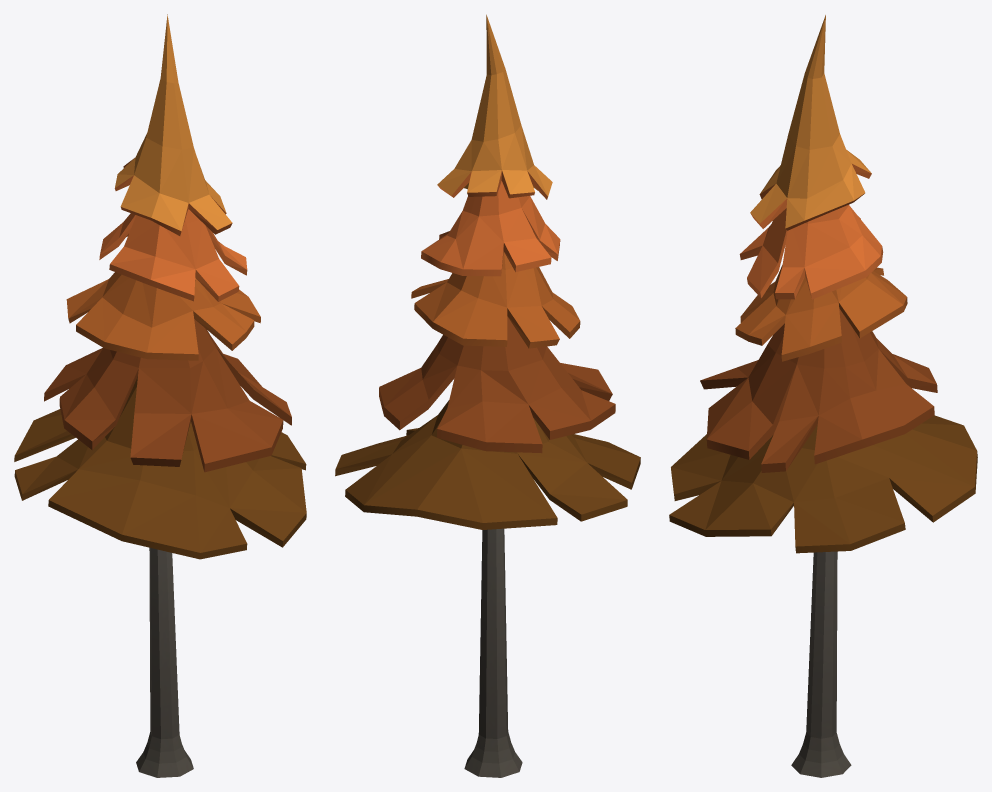
Rendered from ZLP_Plant_K_2.FBX.
3 views of the same model, side by side, from view 1: azimuth 30°, elevation 25°; view 2: azimuth 150°, elevation 25°; view 3: azimuth 270°, elevation 25° (orthographic).
Parts seen in each view (by area): view 1: ZLP_Plant_K_2; view 2: ZLP_Plant_K_2; view 3: ZLP_Plant_K_2.
Boxes of the visible parts, x1,y1,x2,y2 form: ZLP_Plant_K_2: [14, 14, 306, 777]; ZLP_Plant_K_2: [335, 14, 640, 777]; ZLP_Plant_K_2: [669, 15, 977, 777].
Size of the model in its own units: 249 by 649 by 241.
